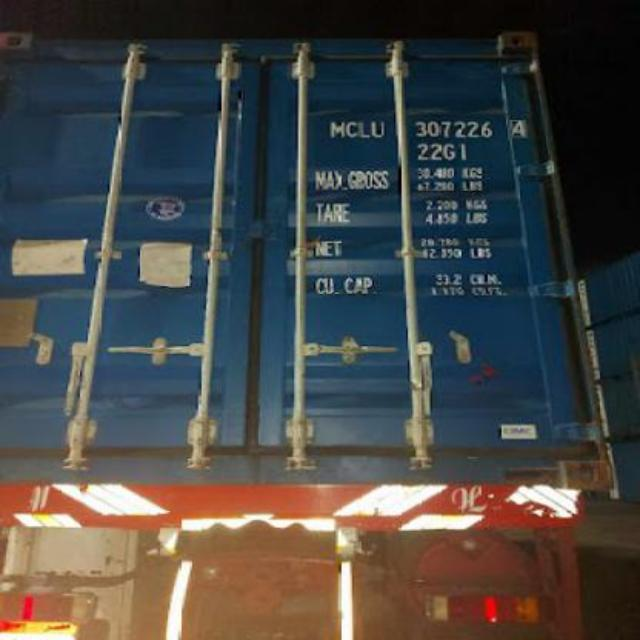0: (424, 118, 442, 138)
2: (450, 115, 468, 139), (466, 118, 479, 138)
3: (408, 118, 428, 140)
4: (512, 117, 526, 135)
6: (478, 114, 494, 142)
7: (438, 118, 454, 140)
C: (344, 110, 358, 140)
L: (358, 115, 372, 141)
M: (328, 112, 346, 144)
U: (370, 117, 386, 143)
